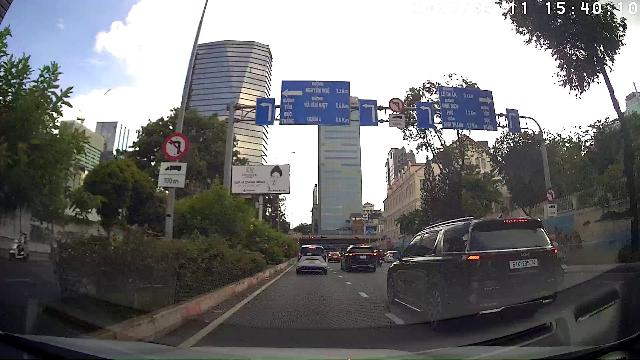123a-cam-re-trai: (162, 133, 189, 160), (388, 97, 404, 113), (545, 188, 556, 202)
